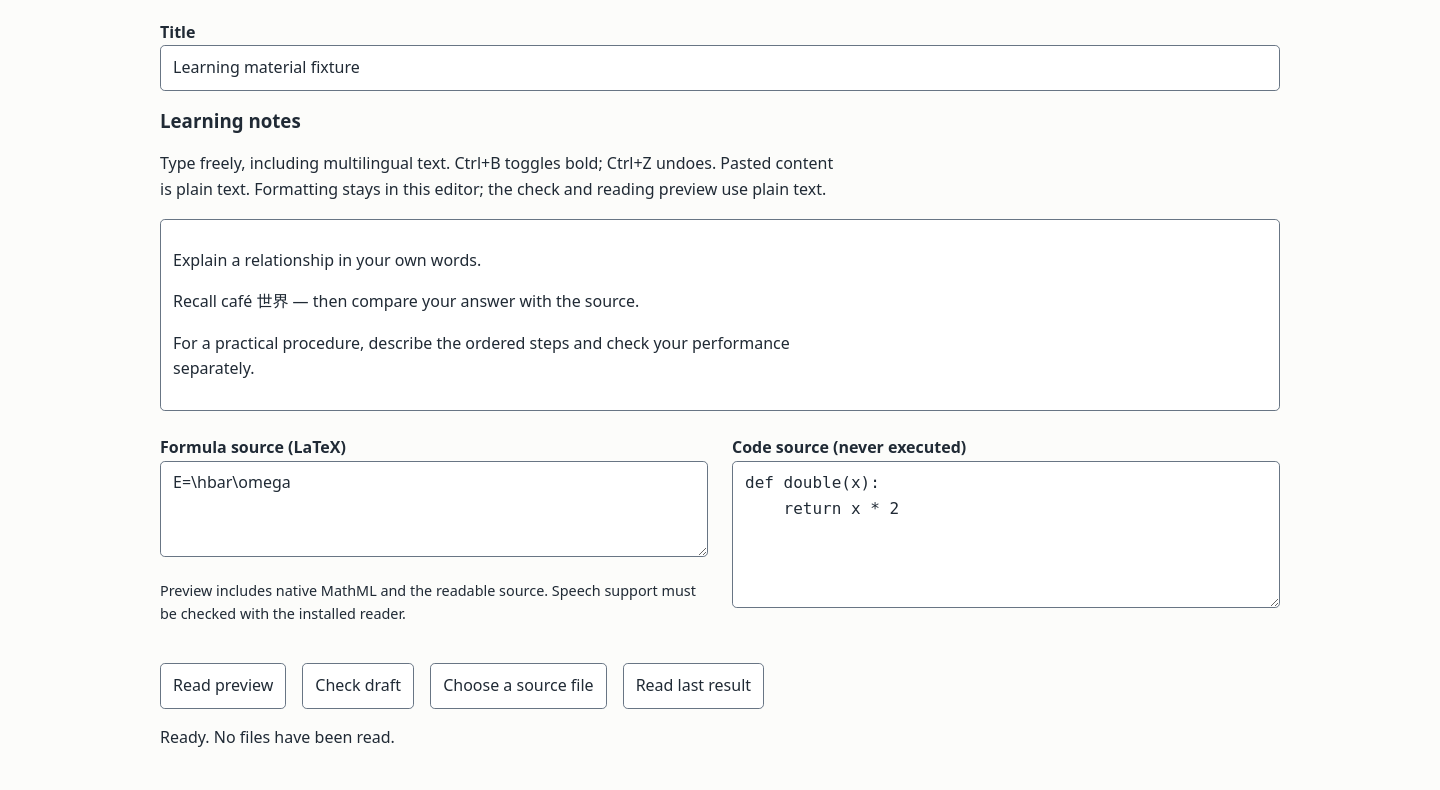
it: selecting a source discloses only its name and does not import or execute it
(page scrolled)
Click the button "Choose a source file".
click(518, 686)  # box [430,663,607,709]
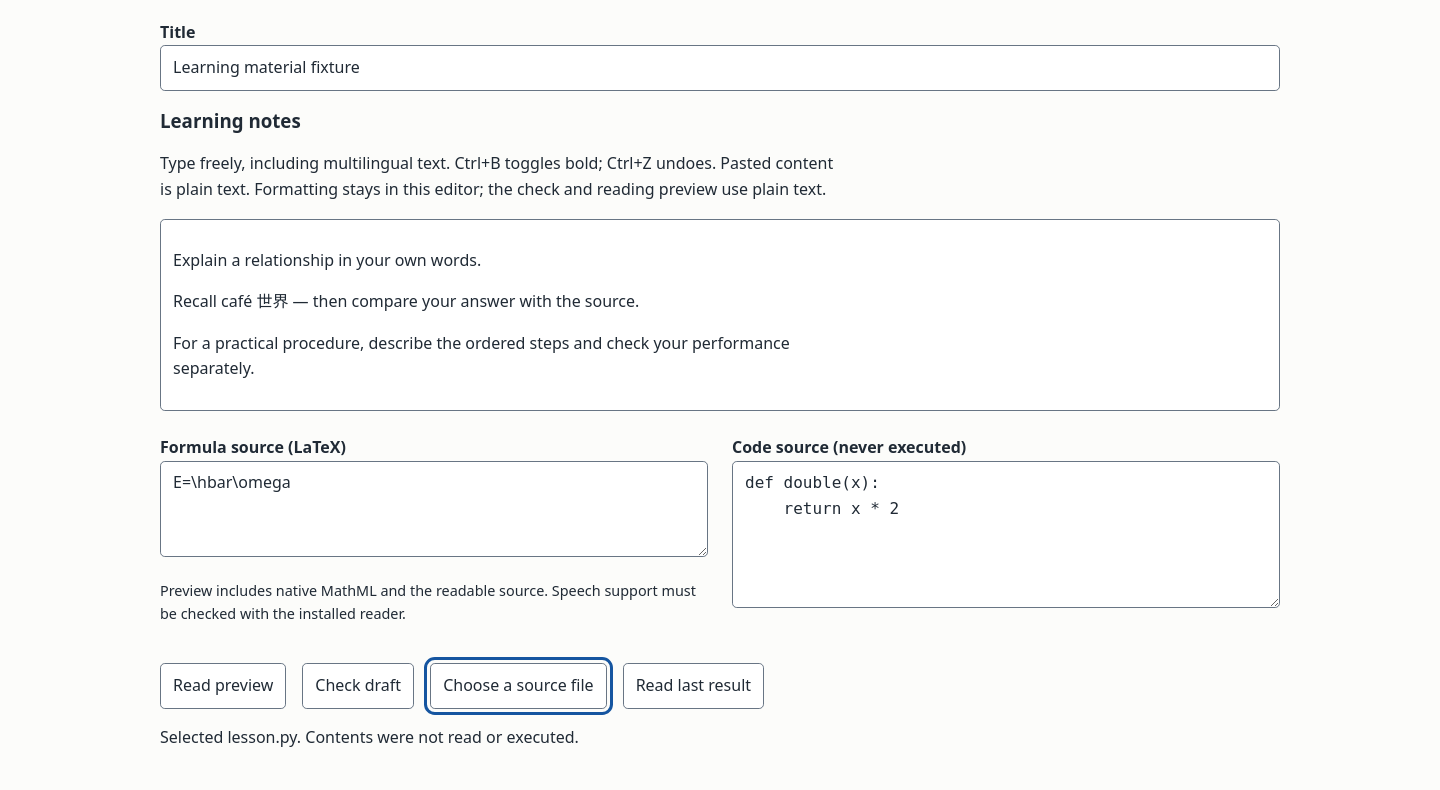
Now the message shows "Selected lesson.py", box [160,726,579,748]
